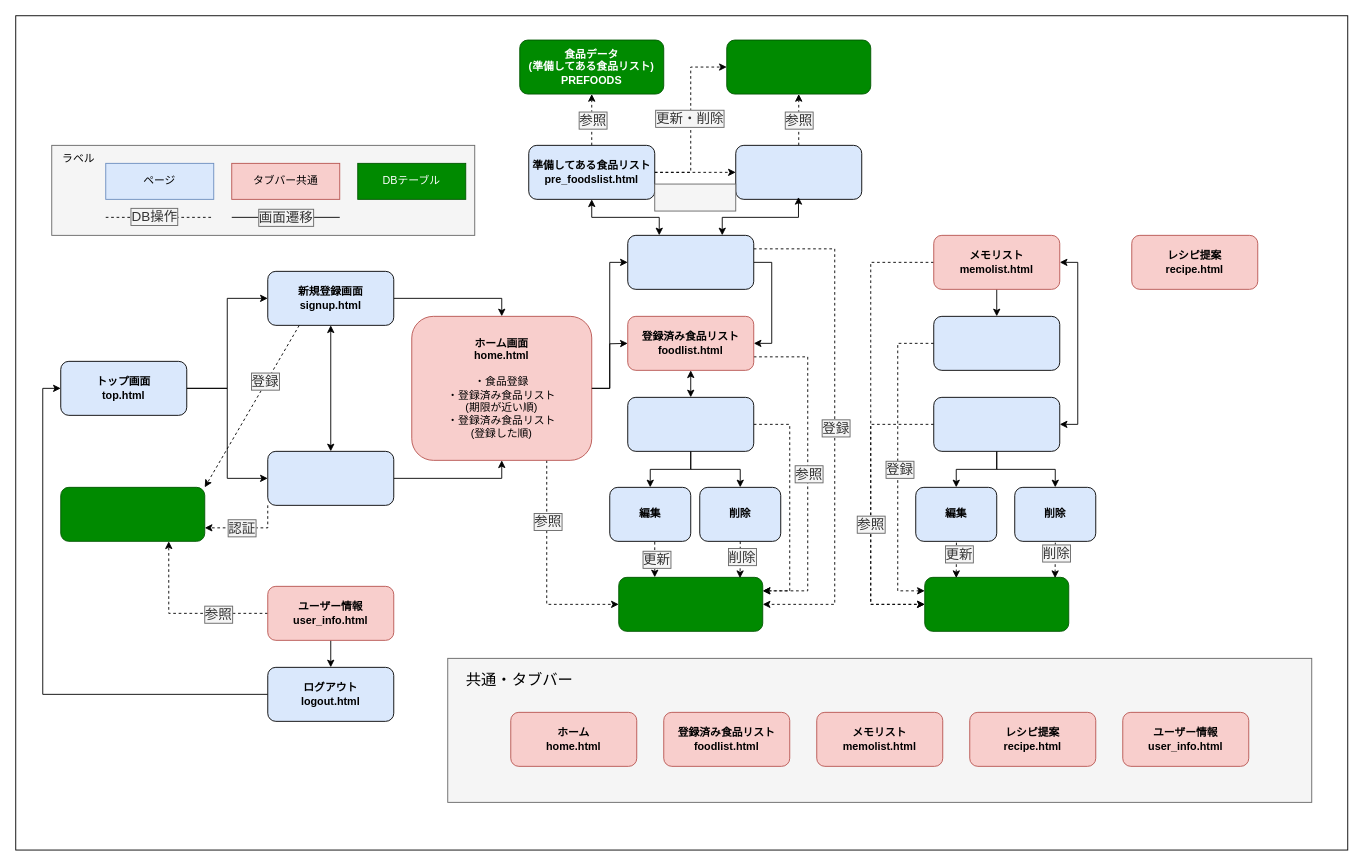
This 1364x866 diagram has some shape labels left out. The shapes that lost their labels are listed below. From the top down, each one's centre as x and y in pixels, then its label:
At (798,66): "お気に入り食品データ (準備してある食品リスト) FAVORITE_FOODS".
At (798,171): "お気に入り食品リスト favorite_foodlist.html".
At (695,197): "お気に入り 登録・解除".
At (690,261): "食品登録 food_register.html".
At (996,342): "メモ新規作成 memo_register.html".
At (690,423): "登録済み食品詳細 foodlist_detail.html".
At (996,423): "メモ詳細 memo_detail.html".
At (330,477): "ログイン画面 login.html".
At (132,513): "ユーザー情報 USERS".
At (690,603): "食品リスト (登録済み食品リスト) FOODS".
At (996,603): "メモリスト SHOPPING_MEMOS".
